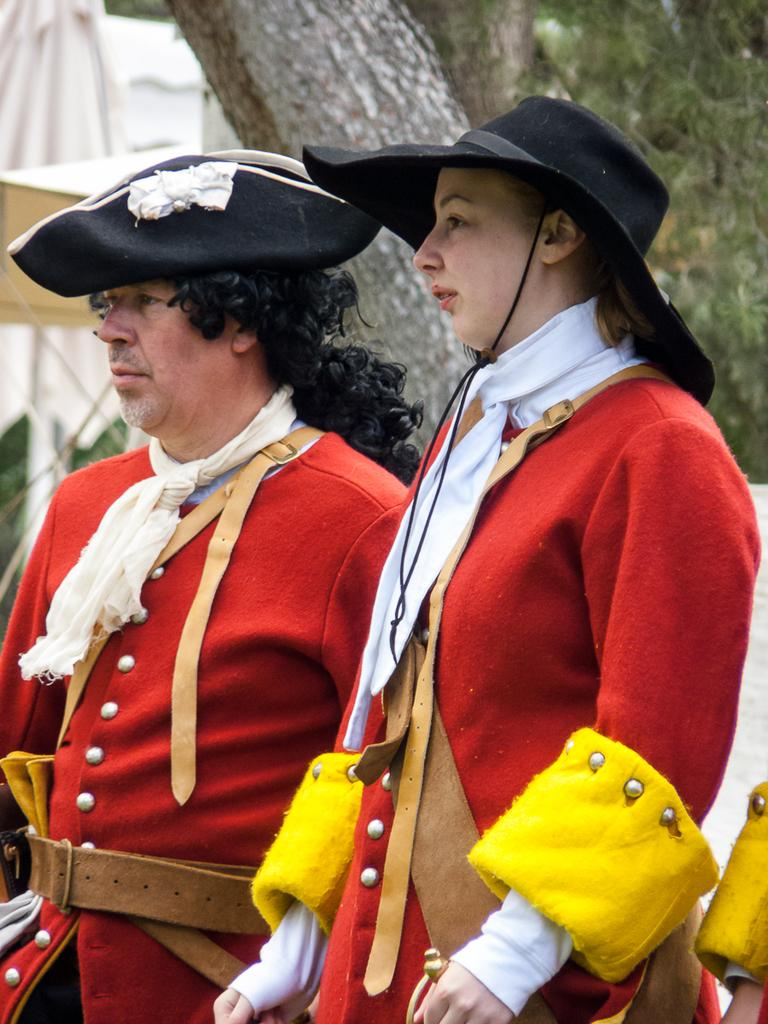Hat: (304, 88, 716, 661), (7, 142, 382, 304)
